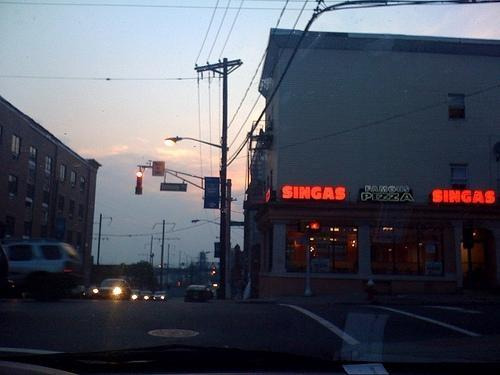car: (2, 242, 83, 301), (0, 242, 17, 304), (92, 278, 132, 300), (184, 284, 210, 300), (131, 290, 144, 301), (142, 290, 152, 300), (153, 292, 165, 299), (208, 288, 214, 298)
